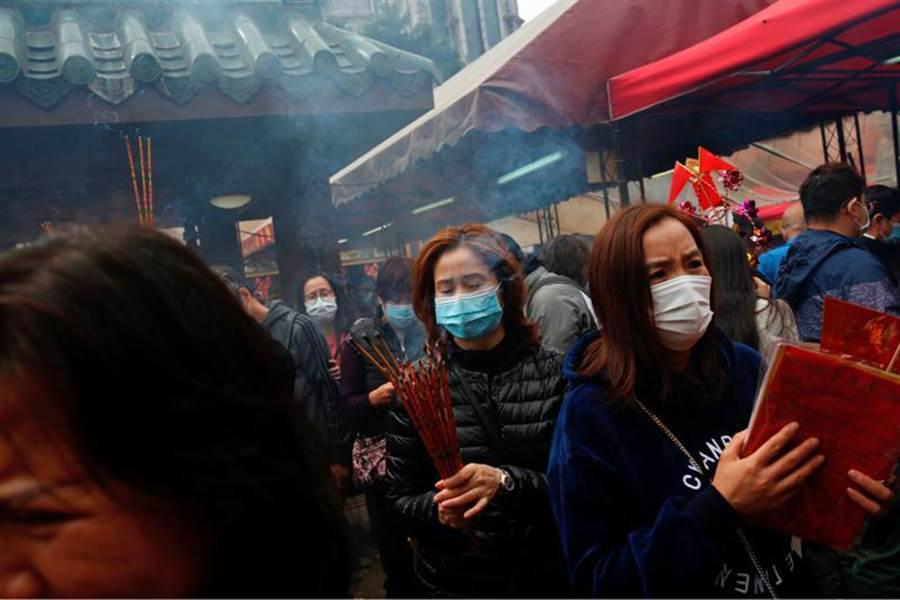mask: (644, 246, 716, 351), (431, 269, 503, 347), (300, 283, 339, 328), (383, 295, 418, 331)
